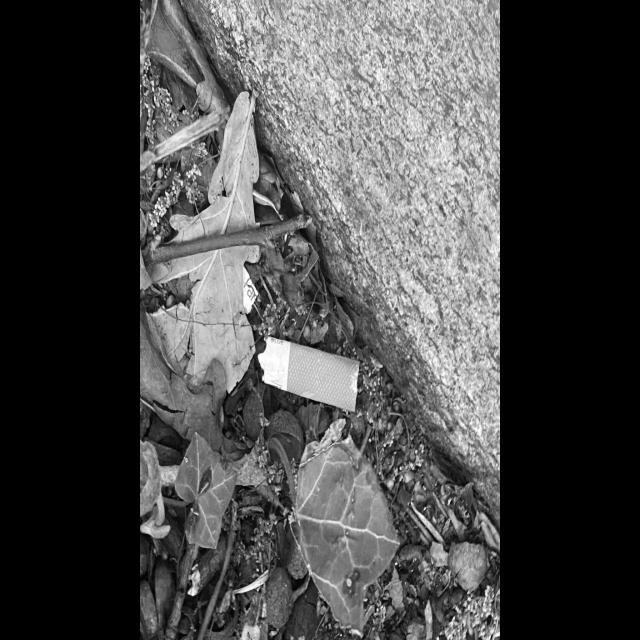other waste: (257, 334, 361, 414)
